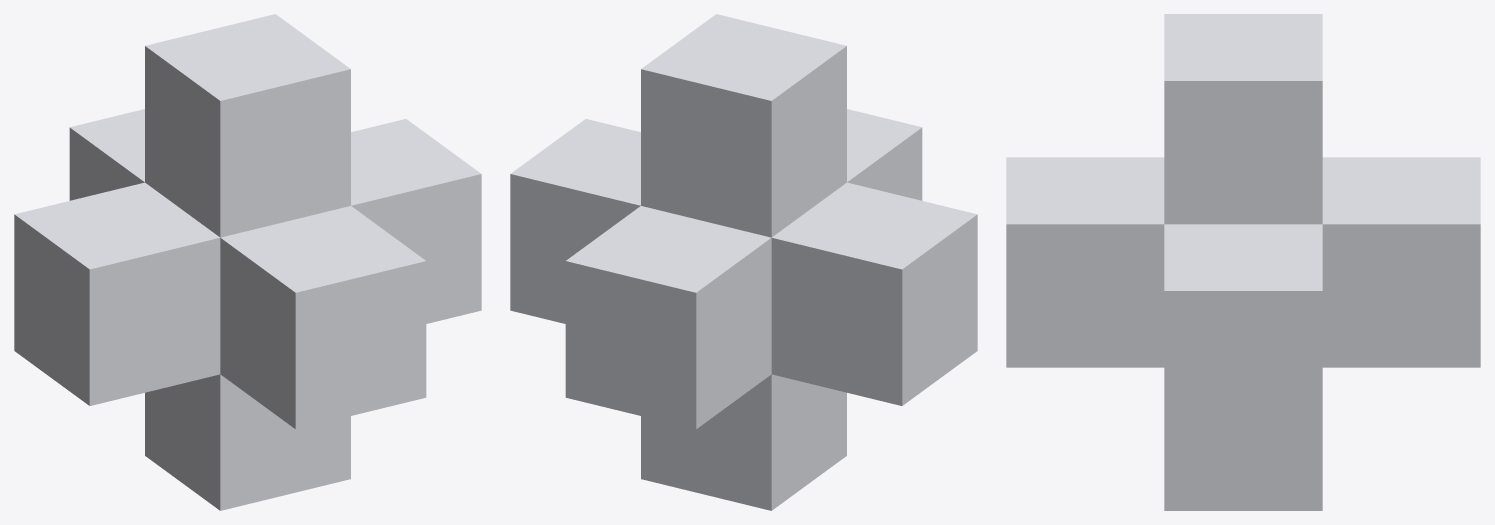
The model's file is star.obj.
The picture shows the model from 3 angles, left to right: view 1: azimuth 30°, elevation 25°; view 2: azimuth 150°, elevation 25°; view 3: azimuth 270°, elevation 25°; orthographic projection. The views are drawn at different scales.
Visible parts, largest first — view 1: Matrix_3; view 2: Matrix_3; view 3: Matrix_3.
Boxes of the visible parts, bbox=[...] form: Matrix_3: bbox=[14, 14, 481, 510]; Matrix_3: bbox=[510, 14, 977, 510]; Matrix_3: bbox=[1006, 14, 1480, 510].
Bounding box in the file's own units: 3 × 3 × 3.
1 material, 1 textured.
